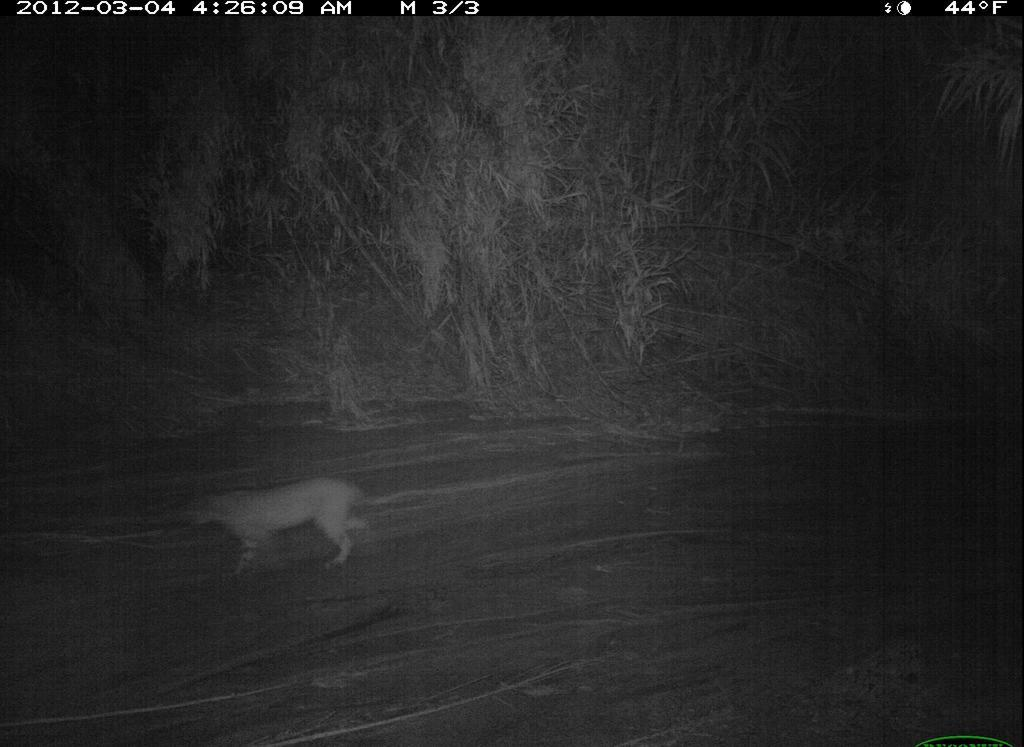bobcat: (180, 474, 402, 591)
